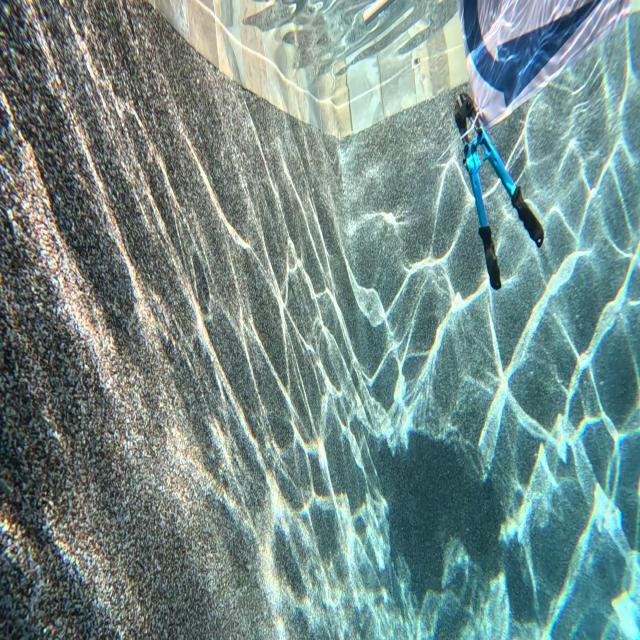blue_side: (461, 0, 608, 108)
